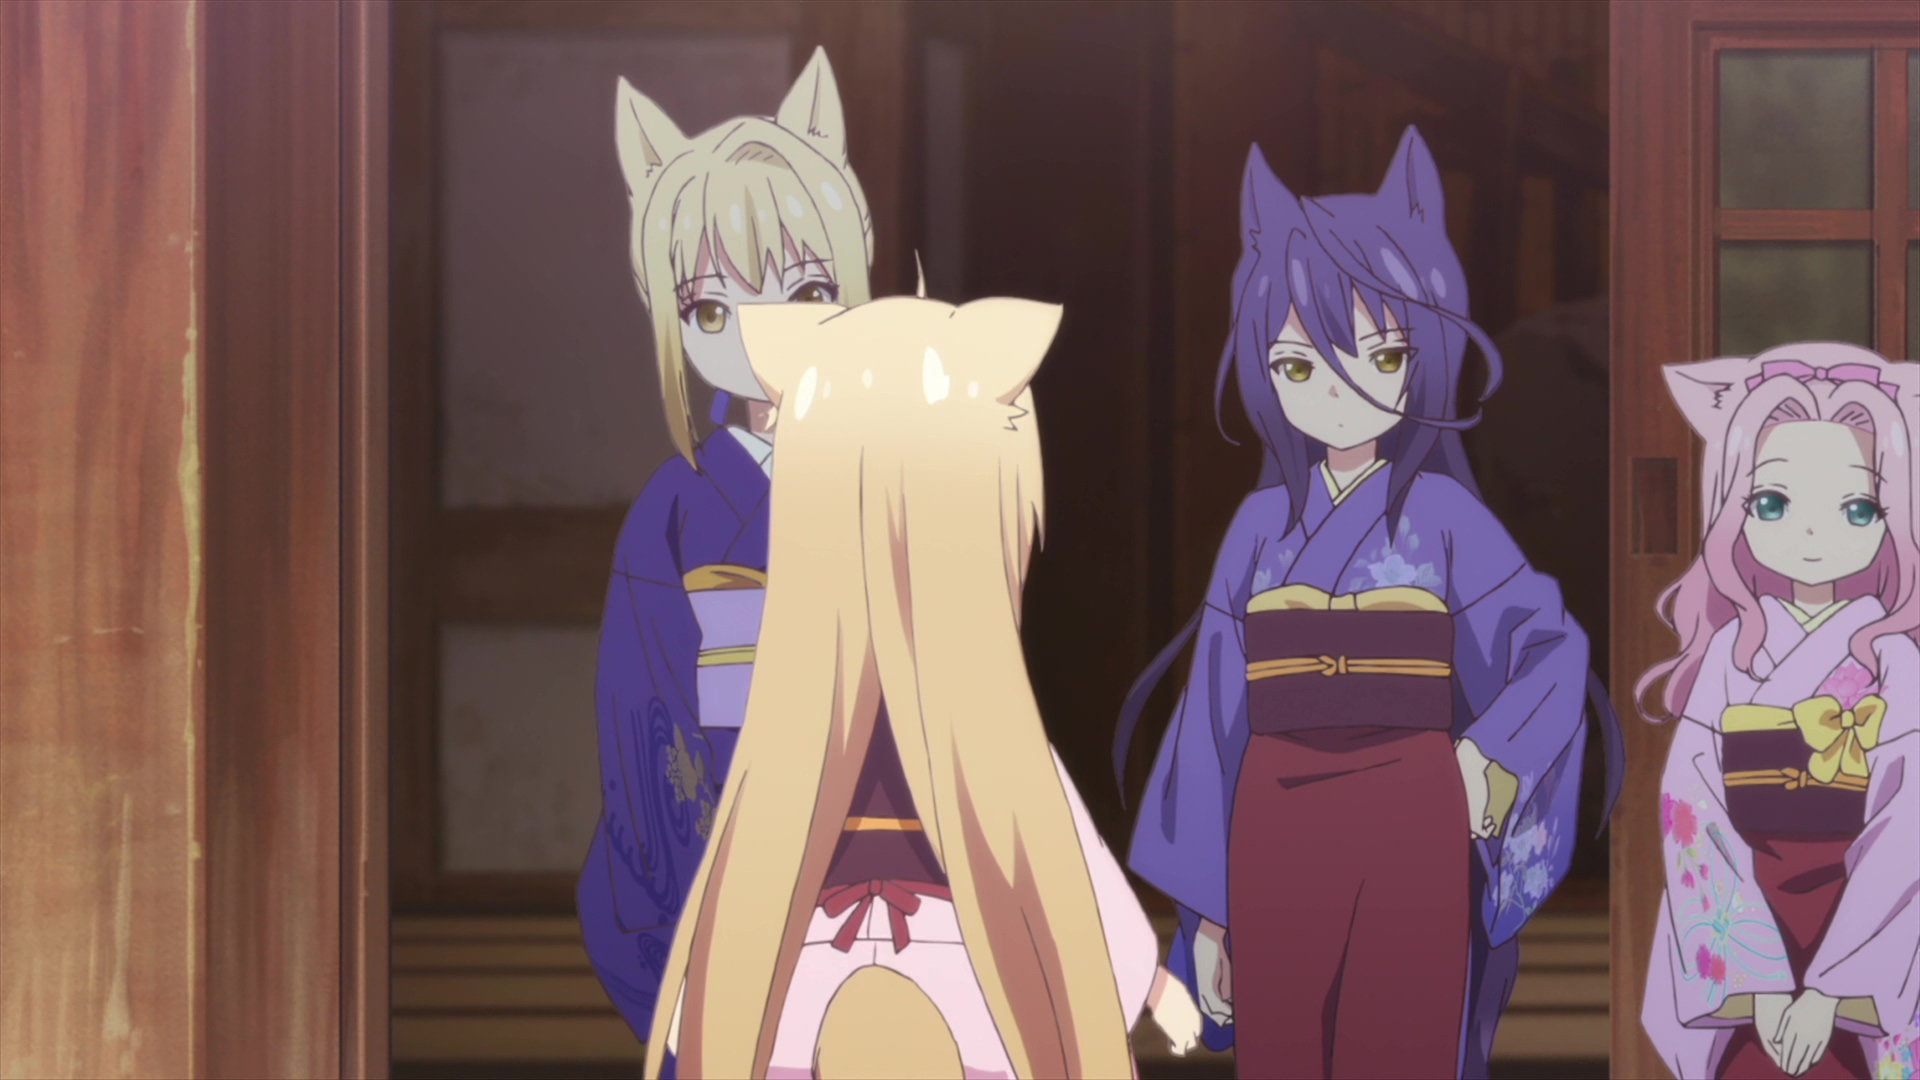柚: (645, 249, 1200, 1080)
桐: (574, 41, 874, 1080)
皋: (1114, 124, 1623, 1080)
莲: (1634, 339, 1920, 1080)
